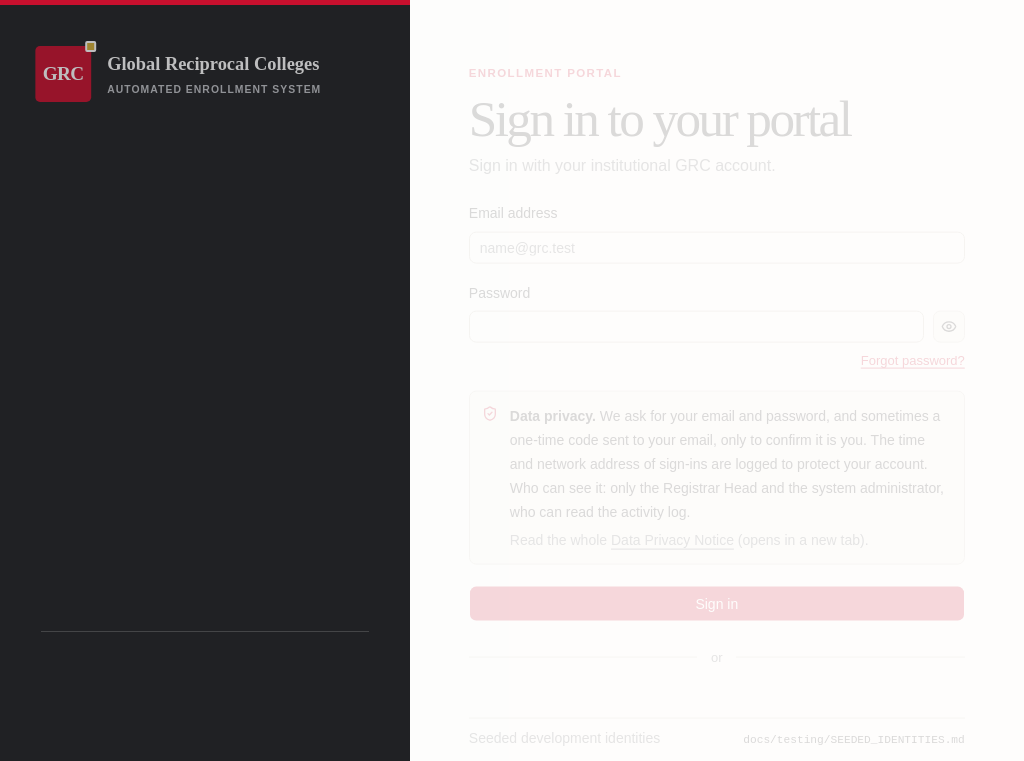
Test: LoginPage › shows one generic credential error, retains email, and clears password
Type "student.seed@grc.test" into the field labelled "Email address". click: (717, 247)
box: 469,231 -> 965,263
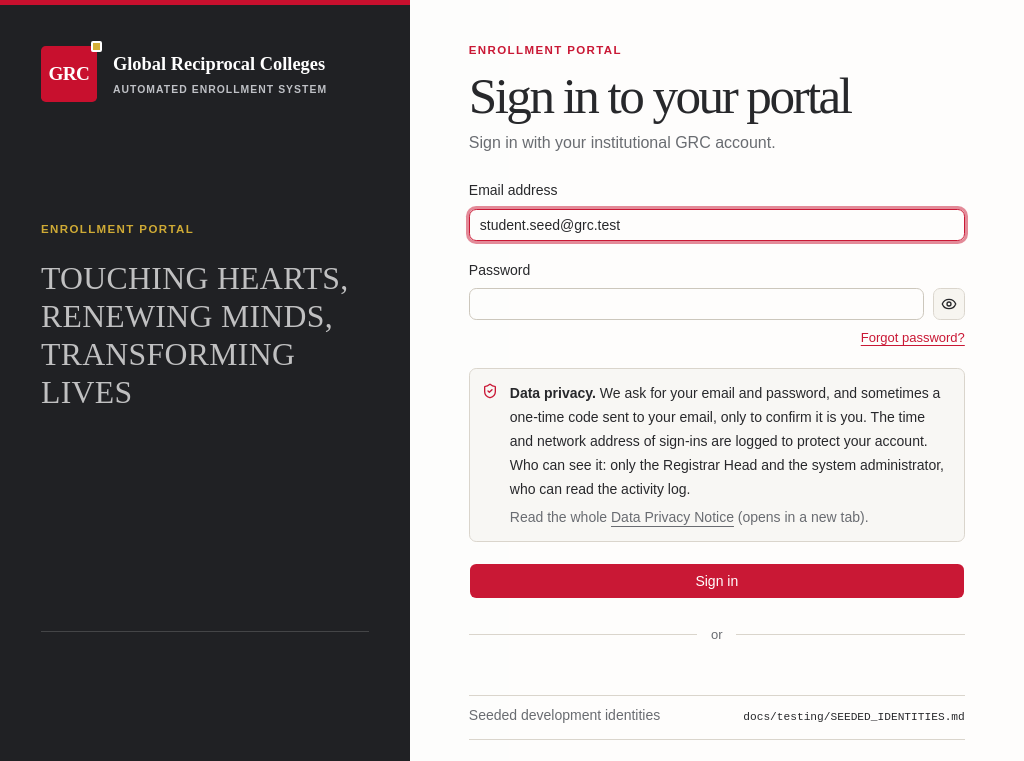
Type "incorrect-password" into the password field labelled "Password". click: (696, 304)
box: 469,288 -> 924,320
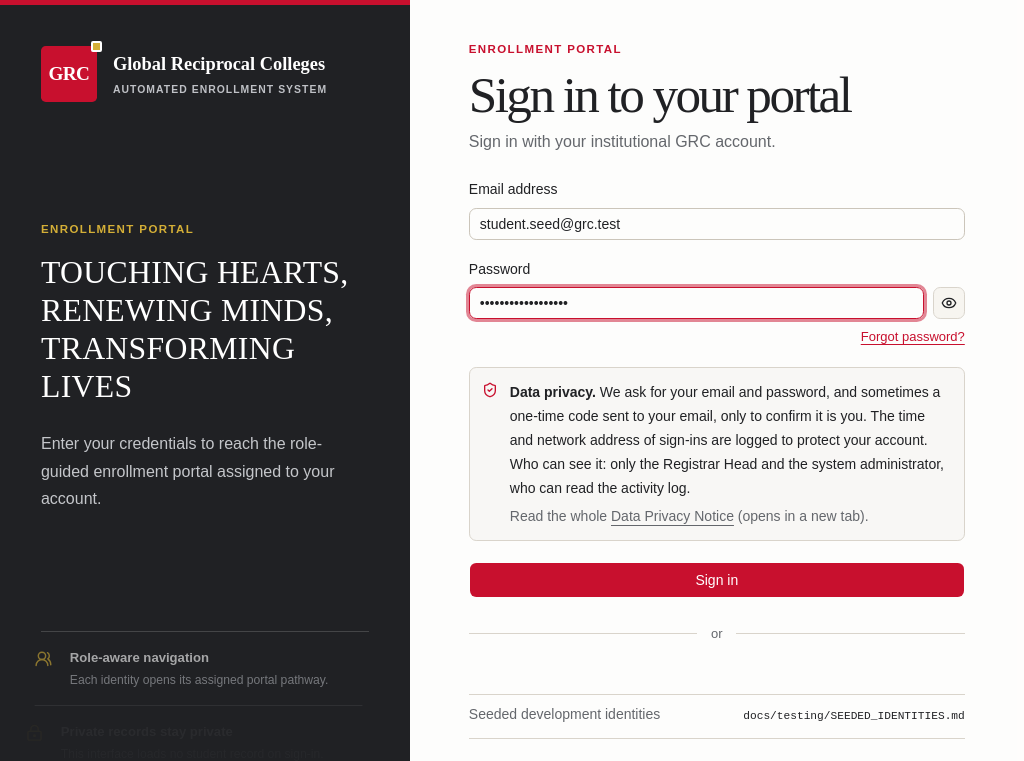
Click the button "Sign in". click: (717, 580)
box: 469,562 -> 965,598
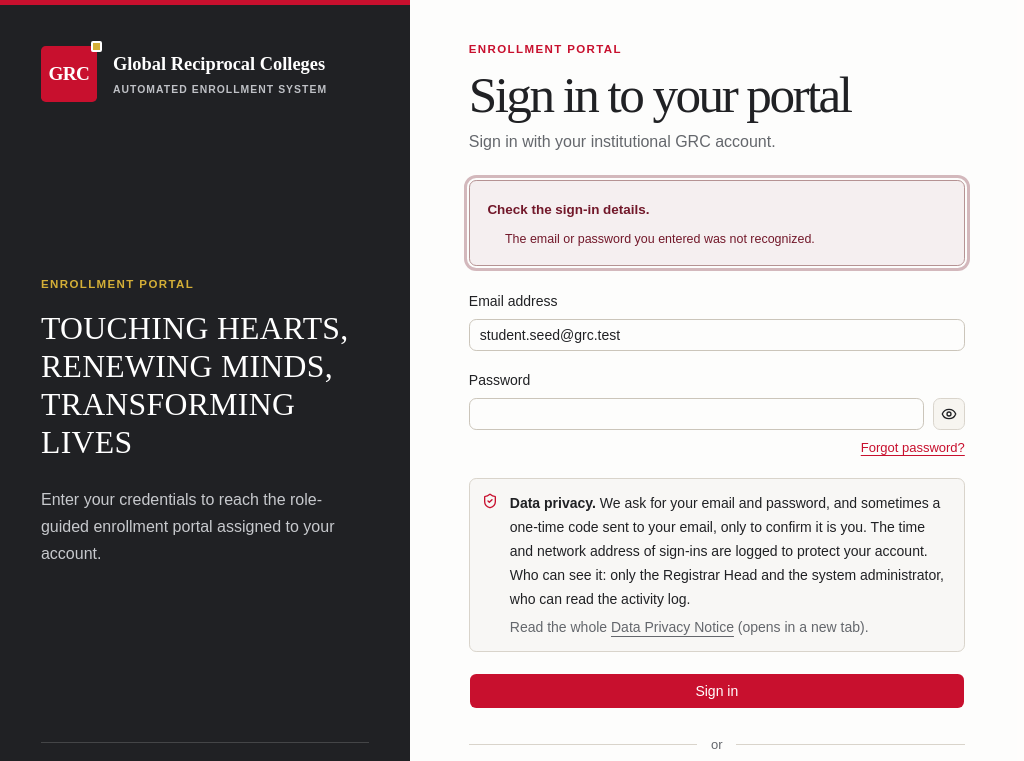
Now the list item "The email or password you entered was not recognized." is shown, box 505,232 -> 815,246
Now the password field labelled "Password" is empty, box 469,398 -> 924,430
